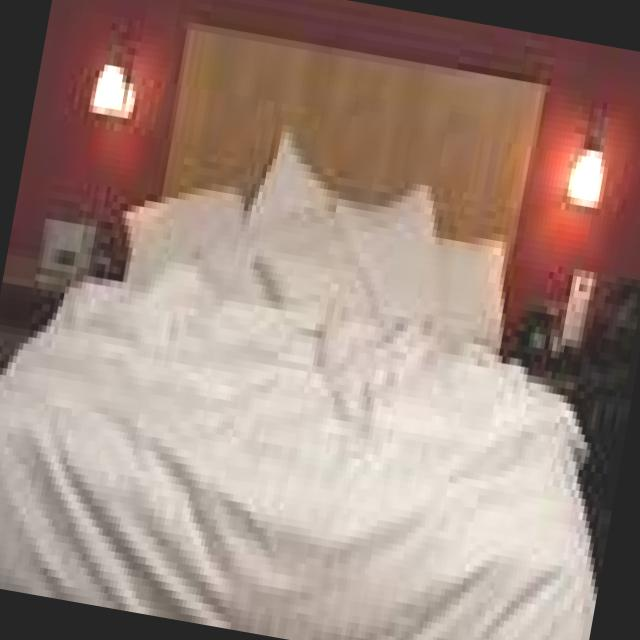mess: (35, 181, 550, 640)
